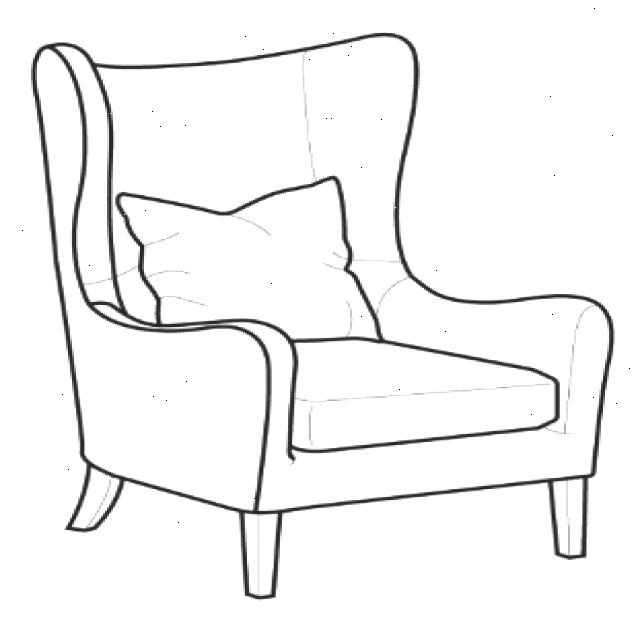Armrest: (58, 304, 298, 514), (375, 274, 617, 438)
Backrest: (96, 52, 385, 342)
Leg_Structure: (59, 458, 593, 605)
Seat: (290, 335, 561, 456)
Wing_Flange: (304, 32, 421, 317), (30, 40, 123, 307)
